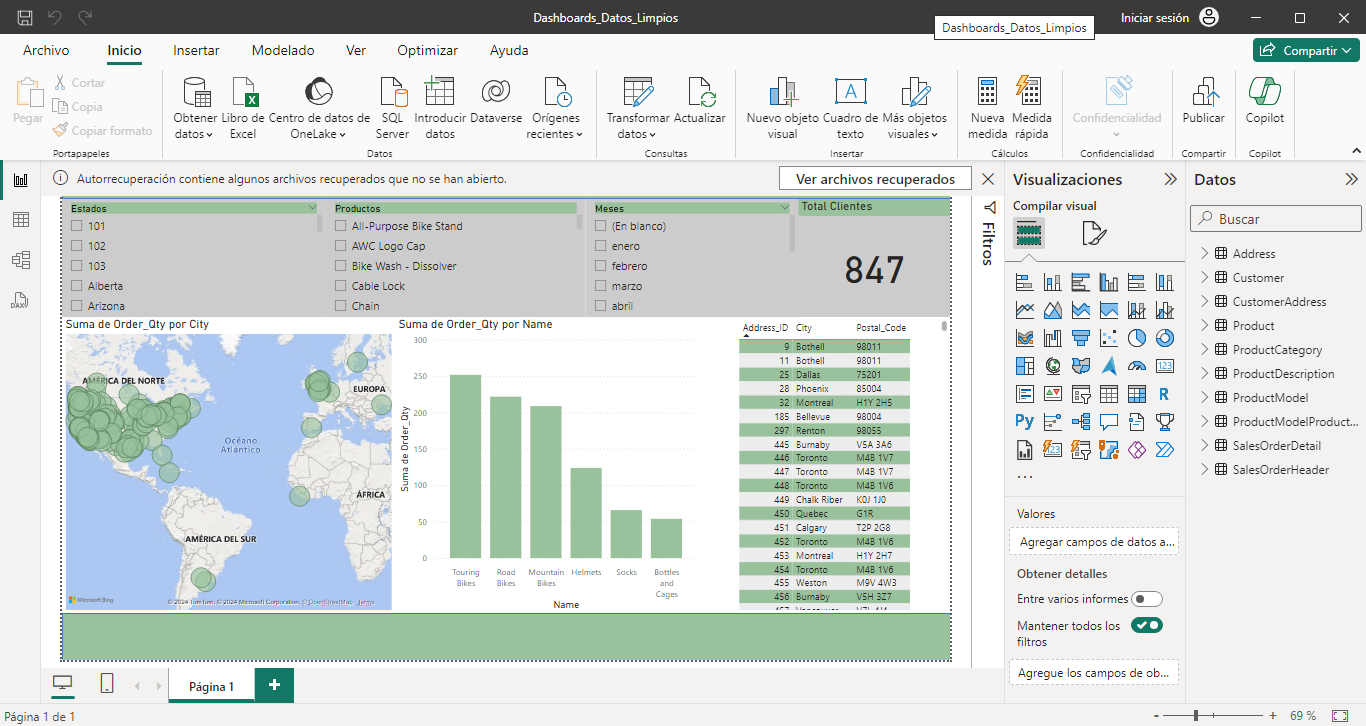

The dashboard page shown, as its layout file describes it:
{"tool":"powerbi","page":{"name":"Página 1","canvas":[1280,720],"ordinal":0},"visuals":[{"type":"map","fields":{"Category":["Address.City"],"Size":["Sum(SalesOrderDetail.Order_Qty)"]},"box":[0,225.7,480,427.1],"z":0},{"type":"clusteredColumnChart","fields":{"Category":["ProductCategory.Name"],"Y":["Sum(SalesOrderDetail.Order_Qty)"]},"box":[480,225.7,442.9,427.1],"z":1000},{"type":"card","fields":{"Values":["CountNonNull(Customer.Customer_ID)"]},"box":[1097.1,225.7,182.9,150],"z":2000},{"type":"slicer","fields":{"Values":["Product.Name"]},"box":[380,55.7,374.3,170],"z":3000},{"type":"card","title":"Total Address","fields":{"Values":["CountNonNull(Address.Address_ID)"]},"box":[1060,55.7,220,170],"z":4000},{"type":"tableEx","fields":{"Values":["Address.Address_ID","Address.City","Address.Postal_Code"]},"box":[968.6,225.7,311.4,427.1],"z":5000},{"type":"shape","box":[0,0,1280,55.7],"z":6000},{"type":"shape","box":[0,652.9,1280,67.1],"z":7000},{"type":"slicer","fields":{"Values":["Address.State_Province"]},"box":[0,55.7,380,170],"z":8000},{"type":"slicer","fields":{"Values":["SalesOrderHeader.Due_Date.Variación.Jerarquía de fechas.Mes"]},"box":[754.3,55.7,305.7,170],"z":9000}]}

Visuals, with their boxes in screenshot pixels (x1, y1, x2, y2):
map - Address.City x Sum(SalesOrderDetail.Order_Qty): (x1=21, y1=195, x2=482, y2=605)
clusteredColumnChart - ProductCategory.Name x Sum(SalesOrderDetail.Order_Qty): (x1=482, y1=195, x2=906, y2=605)
card - CountNonNull(Customer.Customer_ID): (x1=1073, y1=195, x2=1249, y2=339)
slicer - Product.Name: (x1=386, y1=32, x2=745, y2=195)
"Total Address" card: (x1=1038, y1=32, x2=1249, y2=195)
tableEx - Address.Address_ID x Address.City: (x1=950, y1=195, x2=1249, y2=605)
shape: (x1=21, y1=0, x2=1249, y2=32)
shape: (x1=21, y1=605, x2=1249, y2=669)
slicer - Address.State_Province: (x1=21, y1=32, x2=386, y2=195)
slicer - SalesOrderHeader.Due_Date.Variación.Jerarquía de fechas.Mes: (x1=745, y1=32, x2=1038, y2=195)
